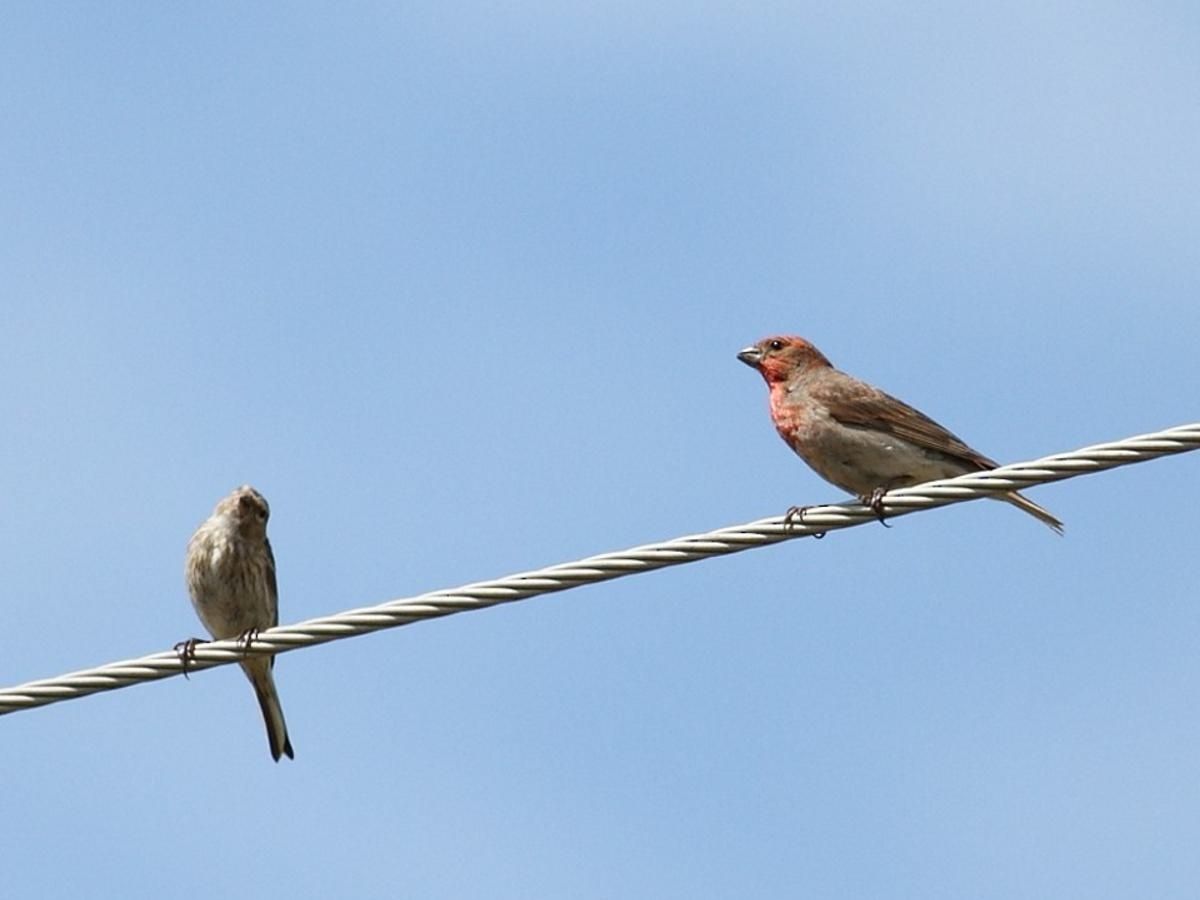rosefinch: (687, 316, 1000, 537)
